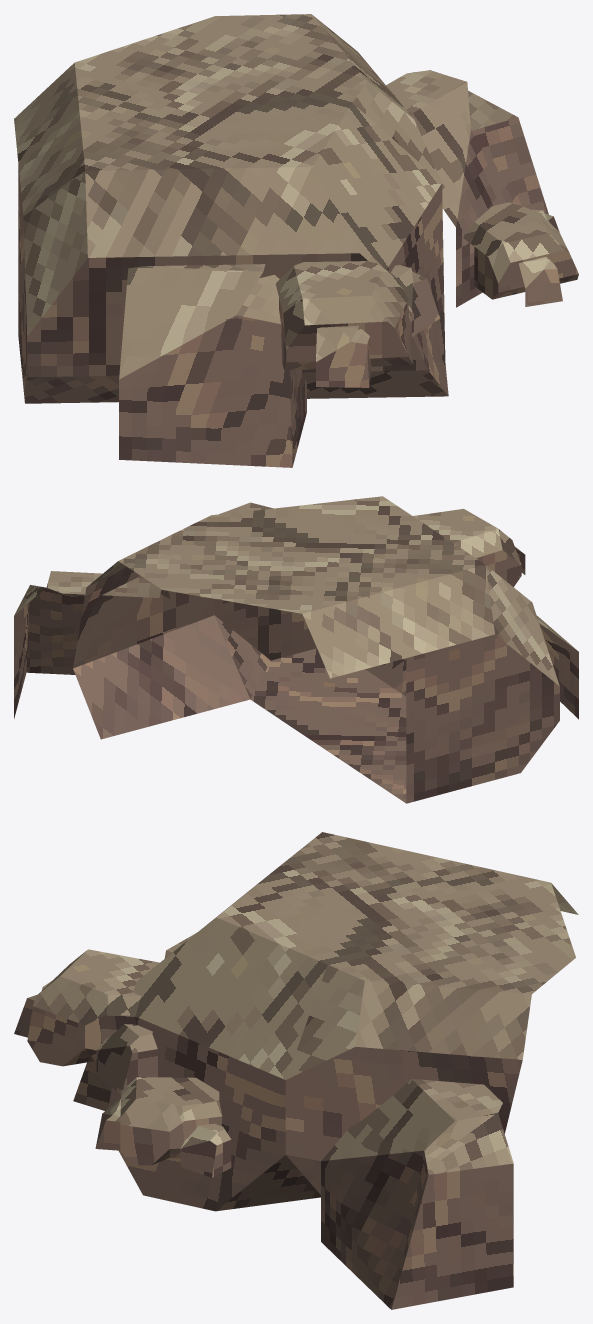
The picture shows the model from 3 angles, top to bottom: view 1: azimuth 30°, elevation 25°; view 2: azimuth 150°, elevation 25°; view 3: azimuth 270°, elevation 25°; orthographic projection. The views are drawn at different scales.
Parts seen in each view (by area): view 1: S_M1Surface_MP; view 2: S_M1Surface_MP; view 3: S_M1Surface_MP.
Boxes of the visible parts, x1,y1,x2,y2 form: S_M1Surface_MP: [14, 14, 578, 467]; S_M1Surface_MP: [14, 496, 578, 803]; S_M1Surface_MP: [14, 832, 578, 1309].
Bounding box in the file's own units: 130 × 48.6 × 109.
2 materials, 2 textured.
